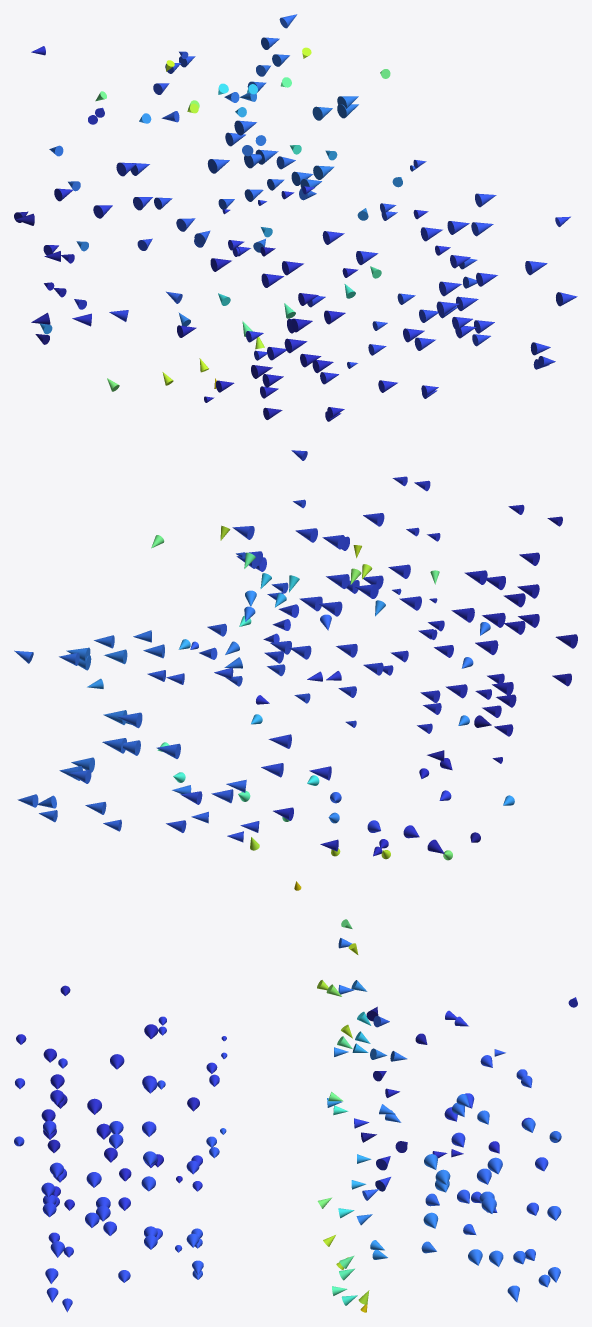
Rendered from LineasCorrienteN2-H2O_mh2-5.58_V-1.1.glb.
3 renders of one model, top to bottom at view 1: azimuth 30°, elevation 25°; view 2: azimuth 150°, elevation 25°; view 3: azimuth 270°, elevation 25°, orthographic. The views are drawn at different scales.
Size of the model in its own units: 0.000991 by 0.000812 by 0.00121.
Materials: 2 (2 with a texture image).
